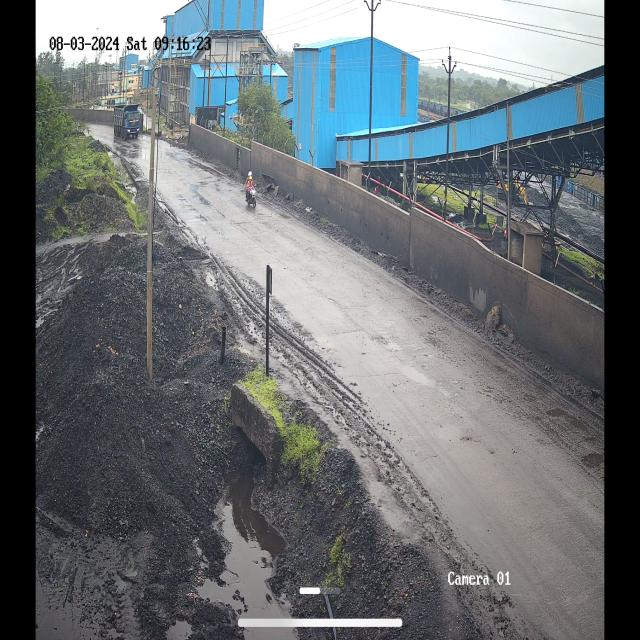dump_truck: (113, 96, 141, 141)
